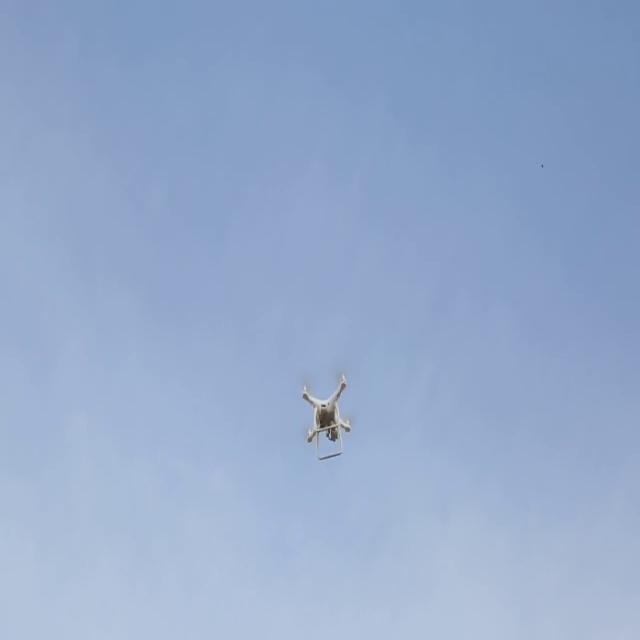drone: (296, 370, 358, 454)
